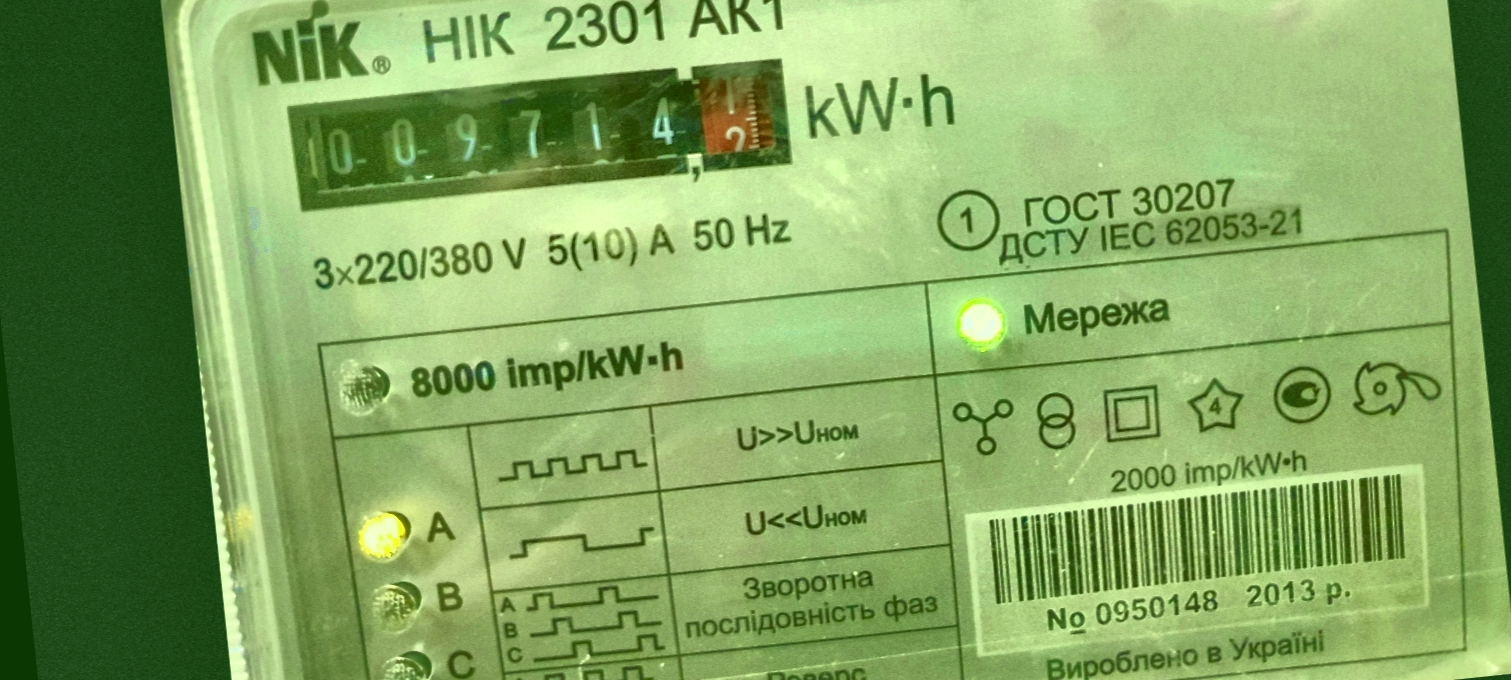0: (322, 123, 356, 179), (386, 113, 418, 169)
1: (579, 96, 607, 153), (718, 74, 737, 117)
2: (720, 121, 747, 153)
4: (644, 93, 678, 150)
7: (515, 105, 546, 161)
9: (448, 109, 481, 164)
screen: (270, 38, 810, 234)
